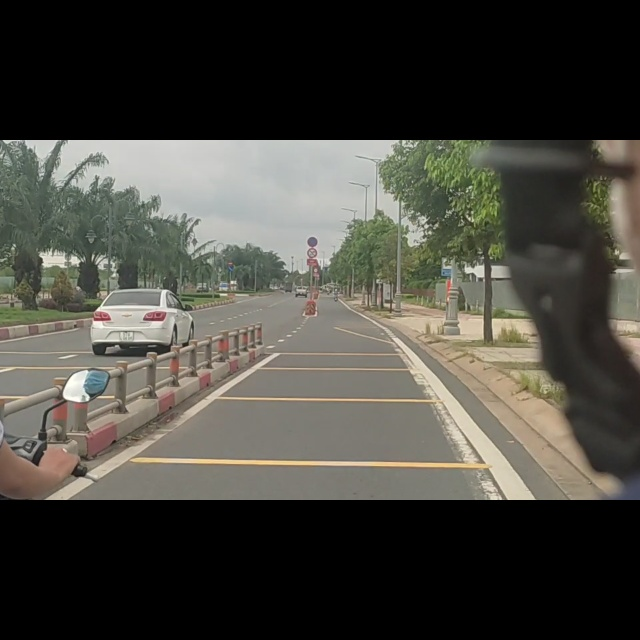bien_hieu_lenh: (307, 169, 318, 190), (307, 190, 318, 210)
